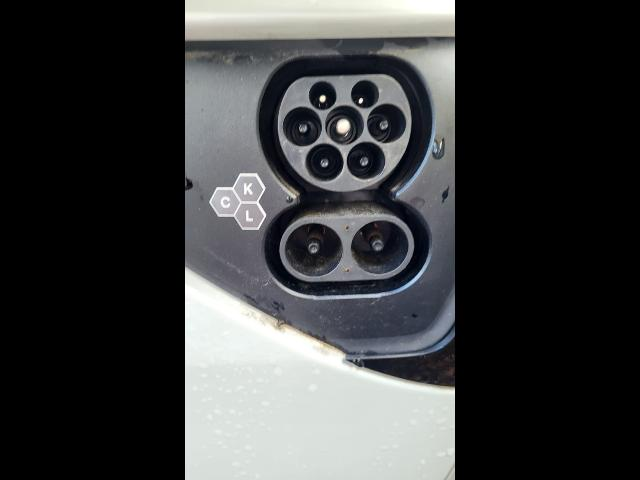inlet: (278, 74, 412, 191)
inlet-above-left: (309, 81, 338, 110)
inlet-above-right: (351, 80, 380, 108)
inlet-below-left: (306, 143, 344, 181)
inlet-below-right: (347, 141, 385, 180)
inlet-circle: (325, 105, 365, 145)
inlet-circle-left: (283, 107, 323, 146)
inlet-circle-right: (367, 103, 406, 144)
inlet-minus: (351, 220, 408, 274)
inlet-plus: (285, 223, 343, 277)
